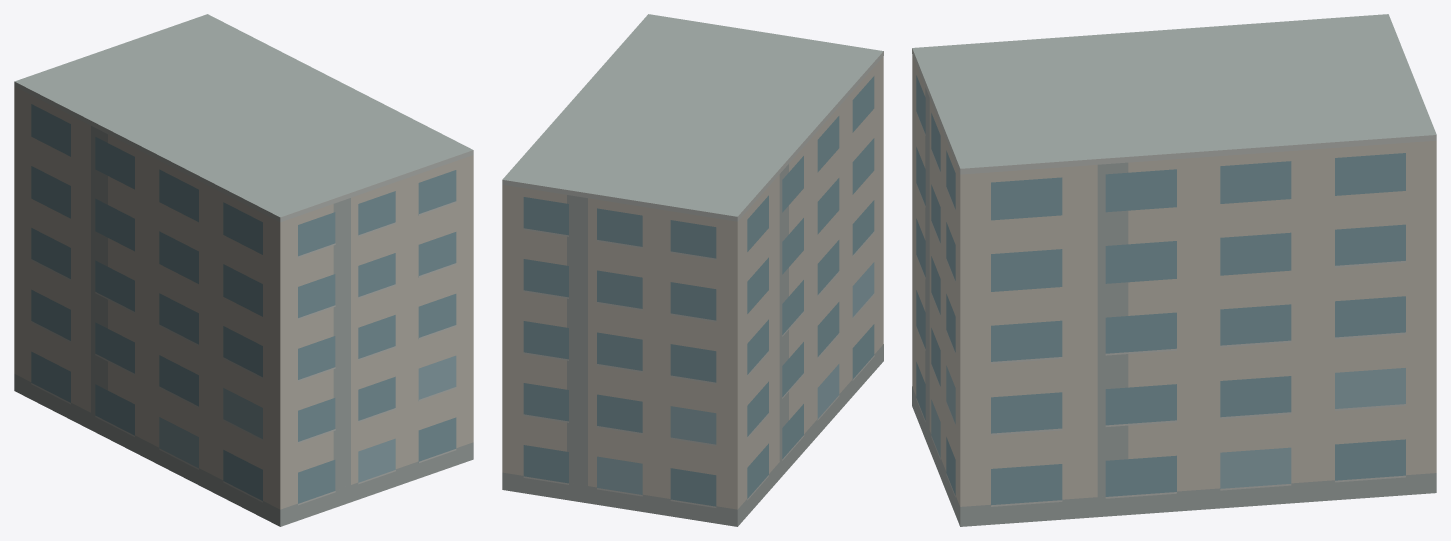
The model's file is residential-c4fb7194-f5cd-4bdf-ba1b-2b564715c768.glb.
The picture shows the model from 3 angles, left to right: view 1: azimuth 30°, elevation 25°; view 2: azimuth 150°, elevation 25°; view 3: azimuth 270°, elevation 25°; orthographic projection. The views are drawn at different scales.
Parts seen in each view (by area): view 1: residential-c4fb7194-f5cd-4bdf-ba1b-2b564715c768.tmp; view 2: residential-c4fb7194-f5cd-4bdf-ba1b-2b564715c768.tmp; view 3: residential-c4fb7194-f5cd-4bdf-ba1b-2b564715c768.tmp.
Part boxes in pixels (x1,y1,x2,y2): residential-c4fb7194-f5cd-4bdf-ba1b-2b564715c768.tmp: (14, 14, 473, 526); residential-c4fb7194-f5cd-4bdf-ba1b-2b564715c768.tmp: (502, 14, 883, 526); residential-c4fb7194-f5cd-4bdf-ba1b-2b564715c768.tmp: (912, 14, 1436, 526).
Size of the model in its own units: 14.15 by 15.25 by 20.26.
